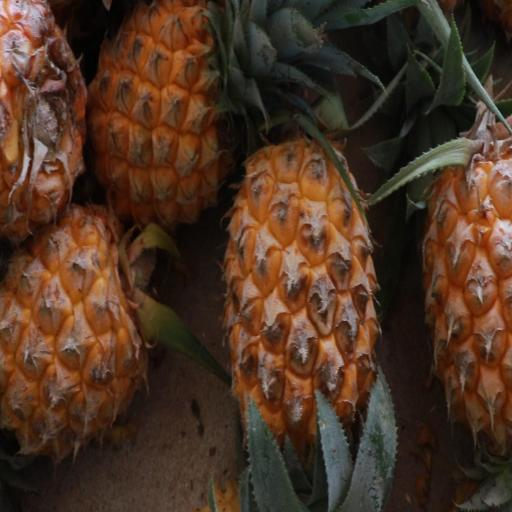Pineapple - v8 v1: (208, 129, 387, 512), (82, 0, 264, 241), (0, 197, 155, 470), (414, 96, 512, 458)
